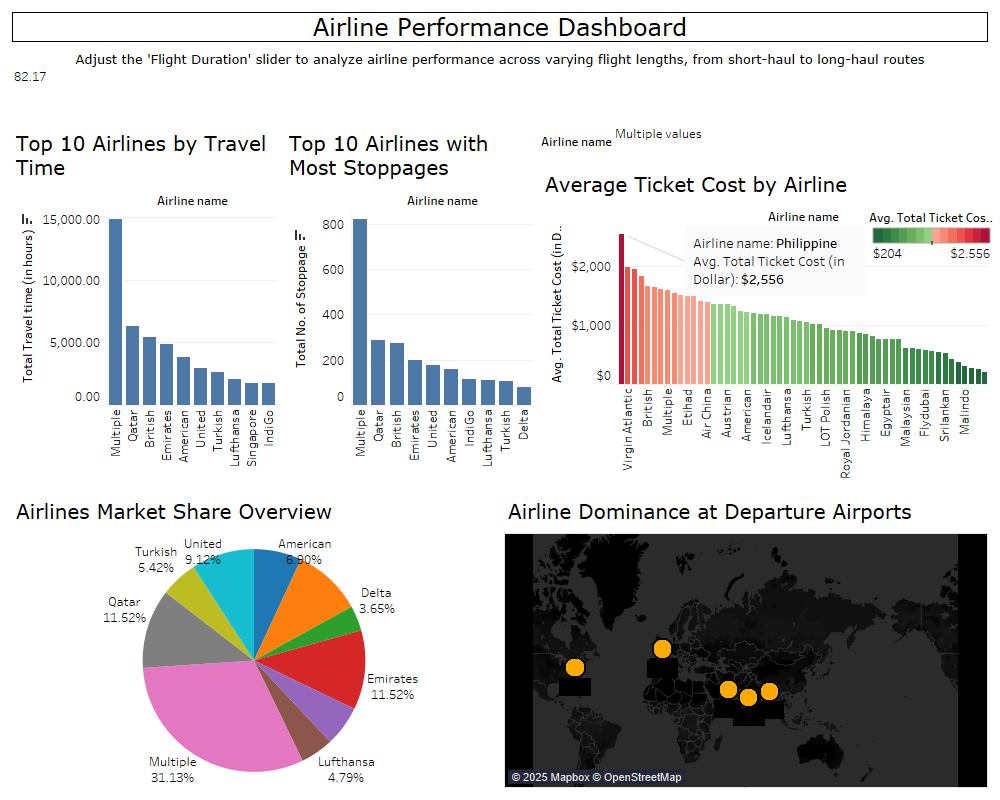

Layout of this report page (visuals, bound fields, positions):
{"tool":"tableau","page":{"name":"Dashboard ","canvas":[1000,800],"ordinal":0},"visuals":[{"type":"title","box":[8,8,984,38]},{"type":"parameter","param":"[Parameters].[Parameter 1]","box":[8,46,984,75]},{"type":"worksheet","title":"1.) Top 10 Airlines With Most Travel Time","mark":"Automatic","rows":["Travel time in hours"],"cols":["Airline name"],"box":[8,121,273,367.5]},{"type":"worksheet","title":"3.) Top 10 Airlines with Most No. of Stoppages","mark":"Automatic","rows":["Calculation_1144477264302100486"],"cols":["Airline name"],"box":[281,121,256,367.5]},{"type":"filter","title":"2.) Average Ticket Cost across different Airlines","param":"[federated.0zykq3q0v7xq5i1gi8qi21lp6ckx].[none:Airline name:nk]","box":[537,121,455,41.5]},{"type":"worksheet","title":"2.) Average Ticket Cost across different Airlines","mark":"Bar","rows":["Ticket prize(Doller)"],"cols":["Airline name"],"box":[537,162.5,455,326]},{"type":"legend","title":"2.) Average Ticket Cost across different Airlines","param":"[federated.0zykq3q0v7xq5i1gi8qi21lp6ckx].[avg:Ticket prize(Doller):qk]","box":[869,205,126,53]},{"type":"worksheet","title":"7.) Top 10 Airlines Performer and Their Market Share","mark":"Pie","box":[8,488.5,492,303.5]},{"type":"worksheet","title":"12.) Geographical Map of Departure Airports and its Airline Dominance","mark":"Automatic","box":[500,488.5,492,303.5]}]}

Visuals, with their boxes in screenshot pixels (x1, y1, x2, y2), scaled from the page's 1000x800 canvas onto the 1000x800 screenshot:
title: x1=8 y1=8 x2=992 y2=46
parameter: x1=8 y1=46 x2=992 y2=121
"1.) Top 10 Airlines With Most Travel Time" worksheet: x1=8 y1=121 x2=281 y2=488
"3.) Top 10 Airlines with Most No. of Stoppages" worksheet: x1=281 y1=121 x2=537 y2=488
"2.) Average Ticket Cost across different Airlines" filter: x1=537 y1=121 x2=992 y2=162
"2.) Average Ticket Cost across different Airlines" worksheet (Bar marks): x1=537 y1=162 x2=992 y2=488
"2.) Average Ticket Cost across different Airlines" legend: x1=869 y1=205 x2=995 y2=258
"7.) Top 10 Airlines Performer and Their Market Share" worksheet (Pie marks): x1=8 y1=488 x2=500 y2=792
"12.) Geographical Map of Departure Airports and its Airline Dominance" worksheet: x1=500 y1=488 x2=992 y2=792
